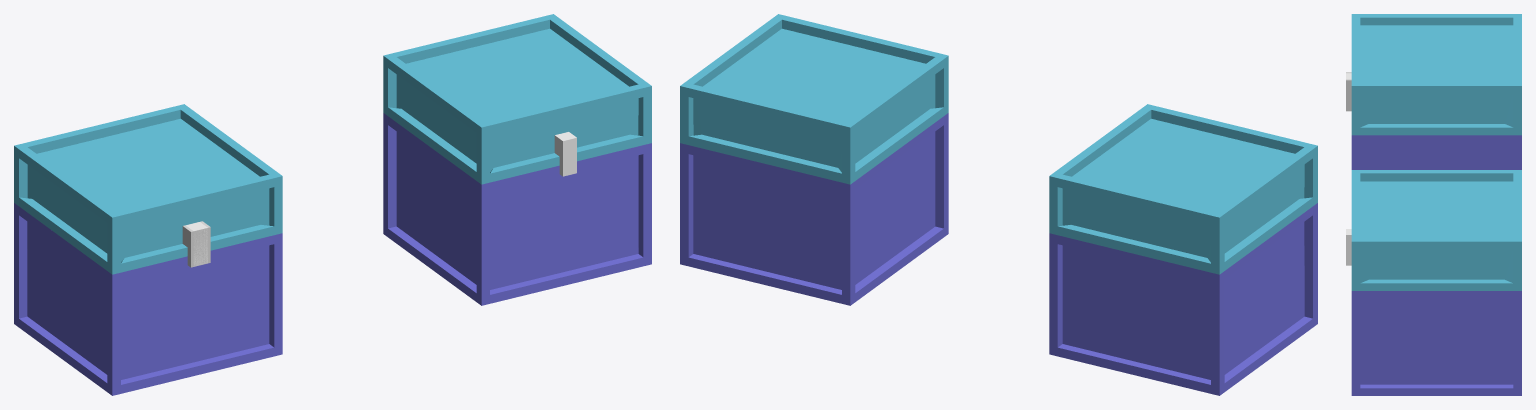
Rendered from minecraft-chest.glb.
The picture shows the model from 3 angles, left to right: view 1: azimuth 30°, elevation 25°; view 2: azimuth 150°, elevation 25°; view 3: azimuth 270°, elevation 25°; orthographic projection. The views are drawn at different scales.
Visible parts, largest first — view 1: Cube, Cube.004, Cube.005, Cube.002, Cube.006; view 2: Cube, Cube.004, Cube.005; view 3: Cube.004, Cube, Cube.005, Cube.002.
Boxes of the visible parts, x1,y1,x2,y2 form: Cube: [14, 104, 282, 395]; Cube.004: [383, 14, 651, 305]; Cube.005: [383, 14, 651, 183]; Cube.002: [182, 221, 210, 267]; Cube.006: [554, 132, 576, 176]; Cube: [1049, 104, 1317, 395]; Cube.004: [680, 14, 948, 305]; Cube.005: [688, 20, 948, 184]; Cube.004: [1346, 170, 1521, 395]; Cube: [1346, 14, 1521, 169]; Cube.005: [1353, 173, 1521, 290]; Cube.002: [1346, 72, 1351, 111].
Bounding box in the file's own units: 19 × 6 × 6.2.
